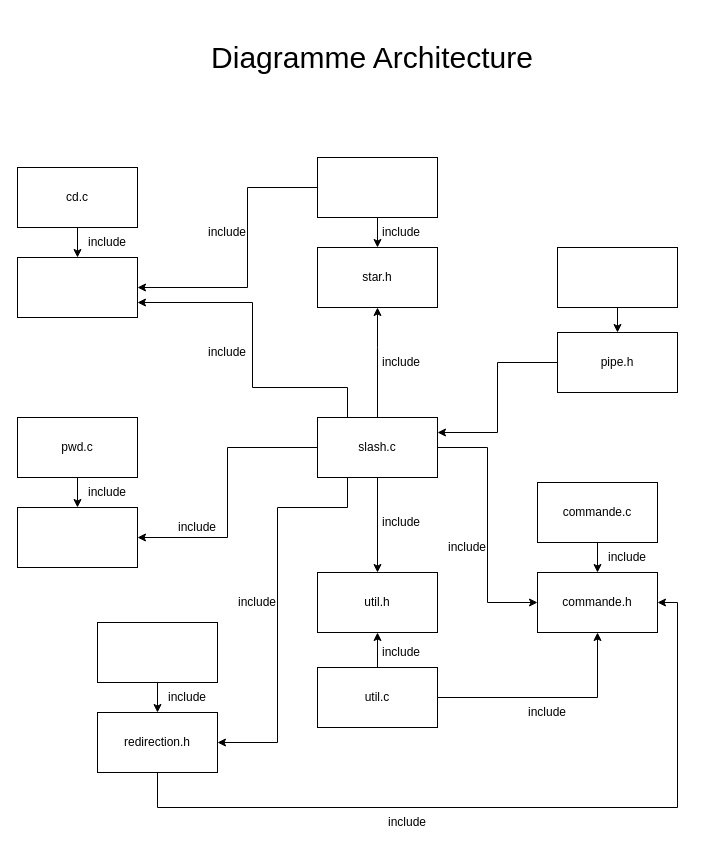
Image size: 703x854. Some labels were removed from this diagram. Here are the shapes that lost their labels. From the top down, the centre of each, then its label:
(x=377, y=187): star.c
(x=77, y=287): cd.h
(x=617, y=277): pipe.c
(x=77, y=537): pwd.h
(x=157, y=652): redirection.c
